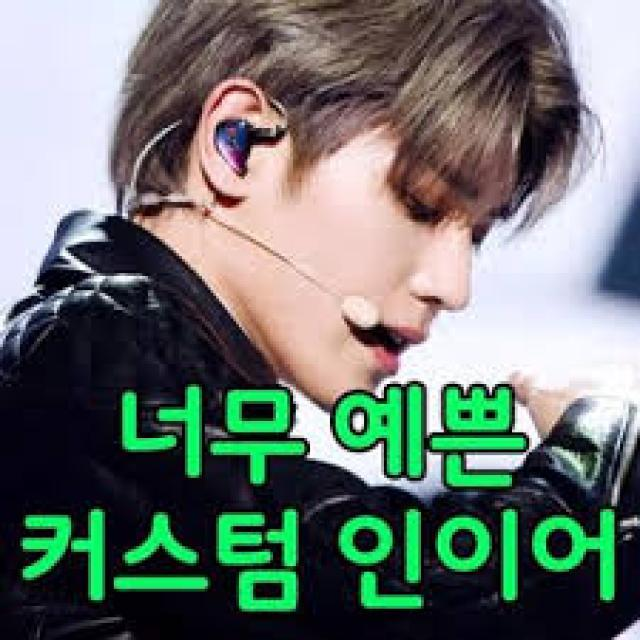earphone: (205, 104, 290, 188)
